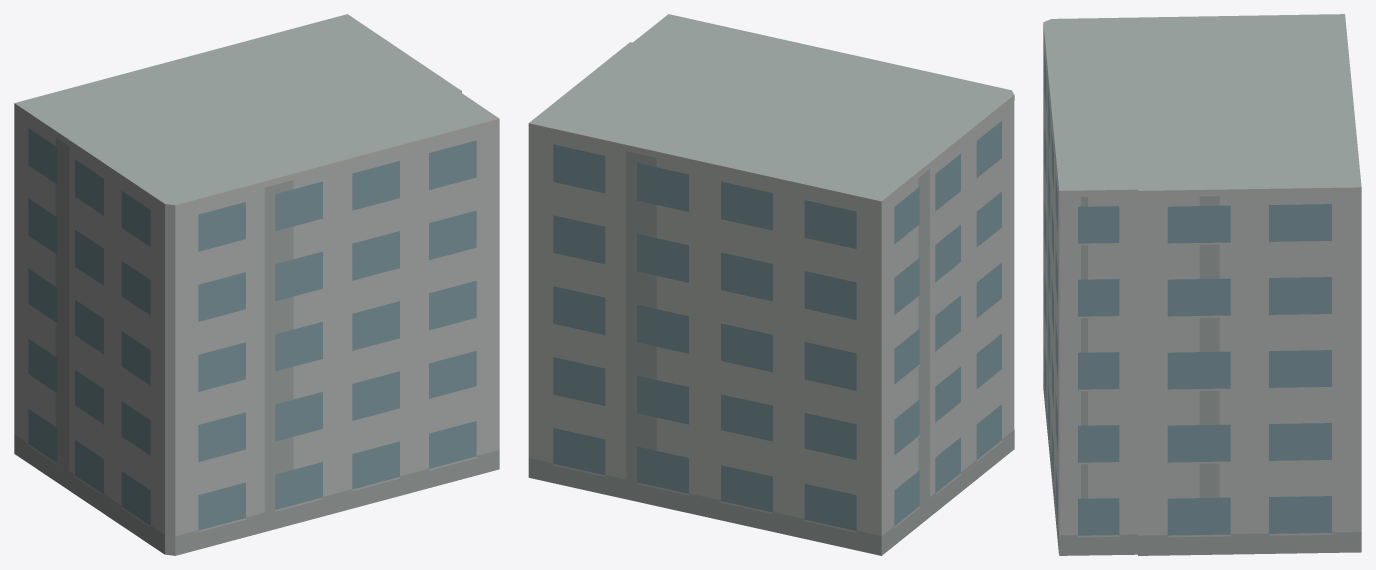
The model's file is survey-upis-32678187.glb.
3 views of the same model, side by side, from view 1: azimuth 30°, elevation 25°; view 2: azimuth 150°, elevation 25°; view 3: azimuth 270°, elevation 25° (orthographic). The views are drawn at different scales.
Visible parts, largest first — view 1: survey-upis-32678187.tmp; view 2: survey-upis-32678187.tmp; view 3: survey-upis-32678187.tmp.
Boxes of the visible parts, box(x1,y1,x2,y2) form: survey-upis-32678187.tmp: box(14, 14, 499, 555); survey-upis-32678187.tmp: box(528, 14, 1014, 555); survey-upis-32678187.tmp: box(1043, 14, 1361, 555).
Bounding box in the file's own units: 14.14 × 13.6 × 10.76.
